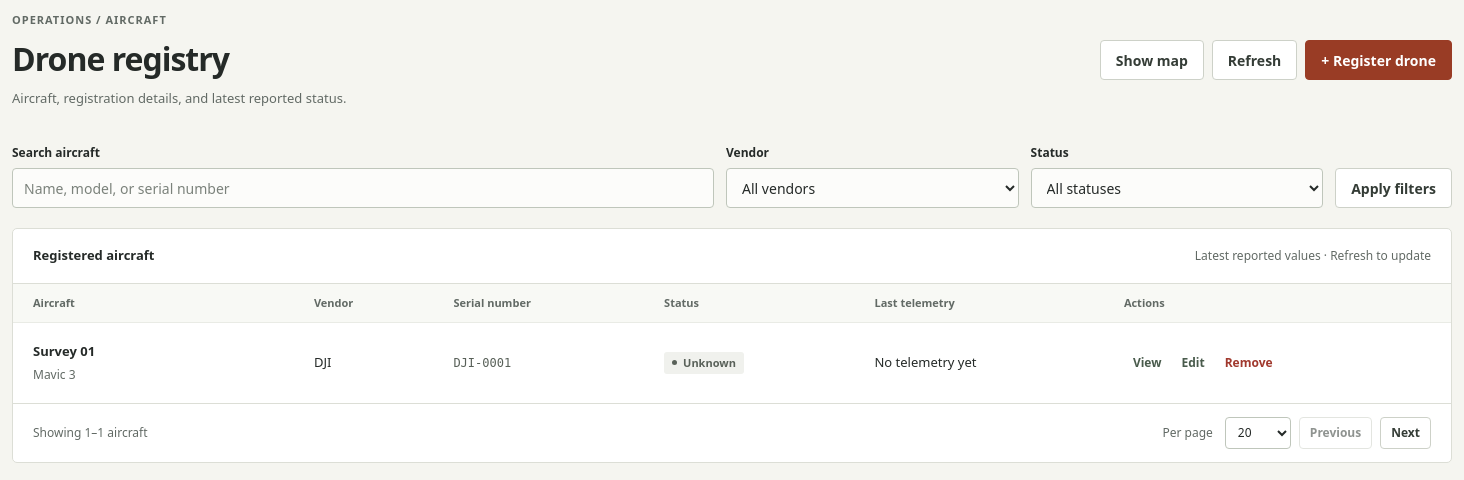
Test case: drone registry › paginates and applies filters from the first page
expect the text "Survey 01" is shown: met, box [33,342,95,360]
expect the button "Previous" is disabled: met, box [1299,416,1372,448]
Click the button "Next". click: {"x": 1406, "y": 432}
box: [1380,416,1431,448]
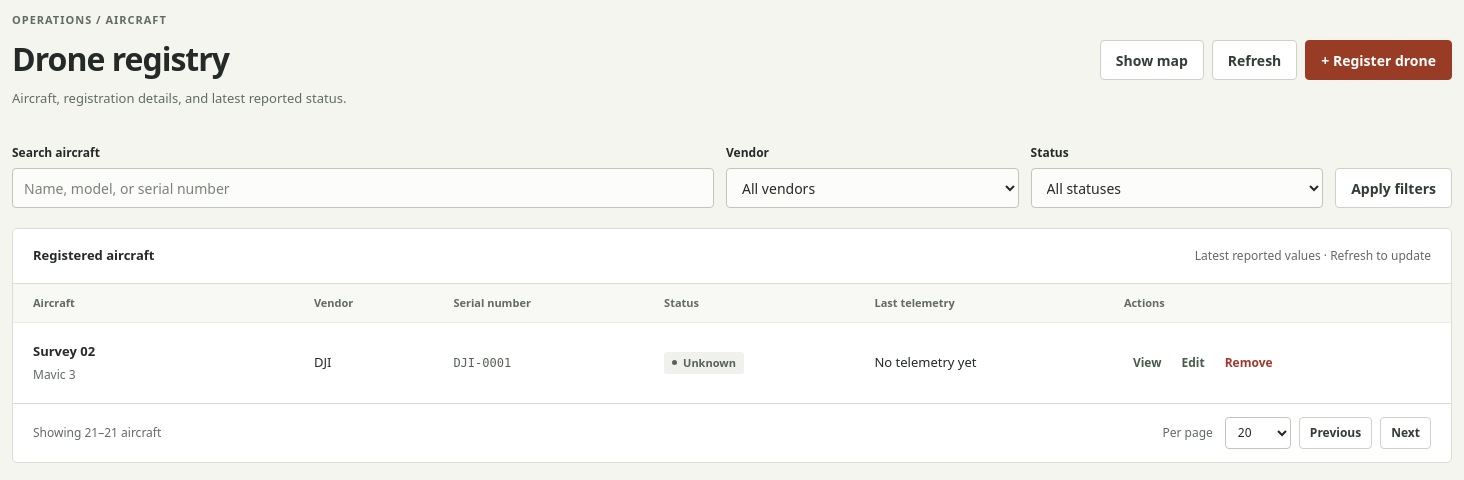
expect the text "Survey 02" is shown: met, box [33,342,95,360]
Type "  Survey  " into the search field labelled "Search aircraft". click: {"x": 363, "y": 188}
box: [12,168,714,208]
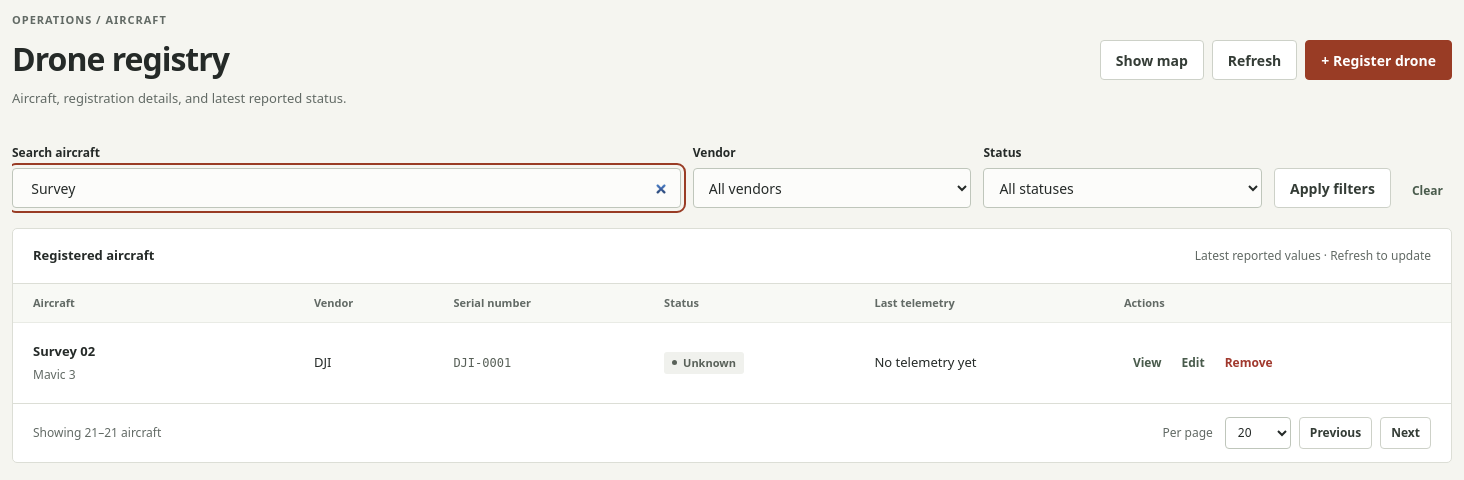
Select "DJI" in the dropdown labelled "Vendor". click: {"x": 832, "y": 188}
box: [693,168,971,208]
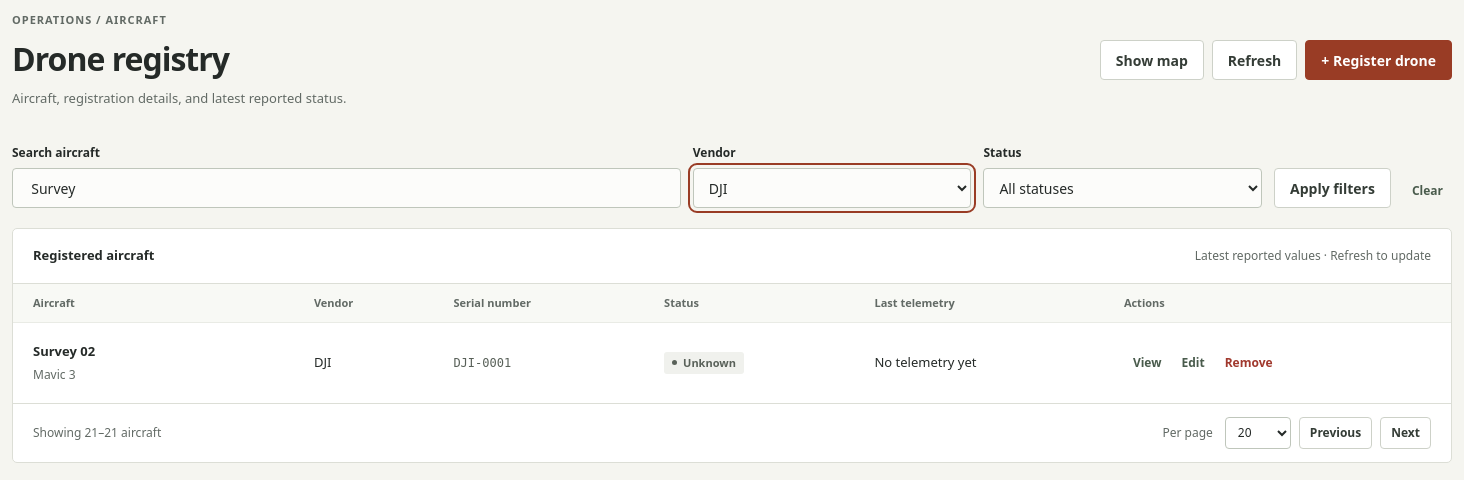
Select "Unknown" in the dropdown labelled "Status". click: {"x": 1123, "y": 188}
box: [983,168,1262,208]
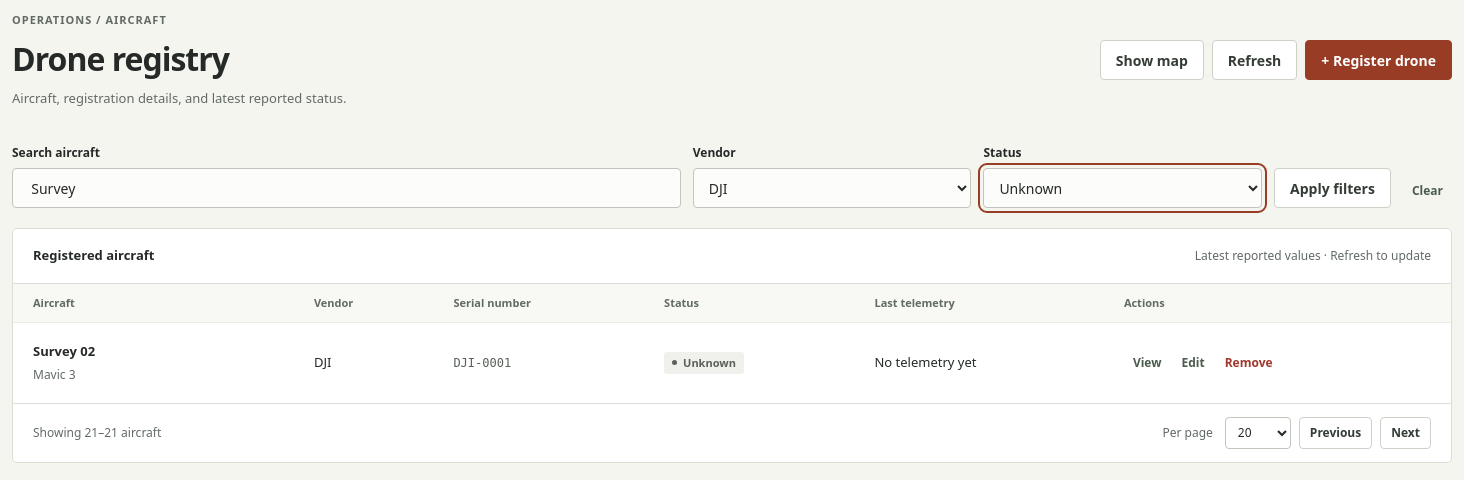
Click the button "Apply filters". click: {"x": 1332, "y": 188}
box: [1274,168,1391,208]
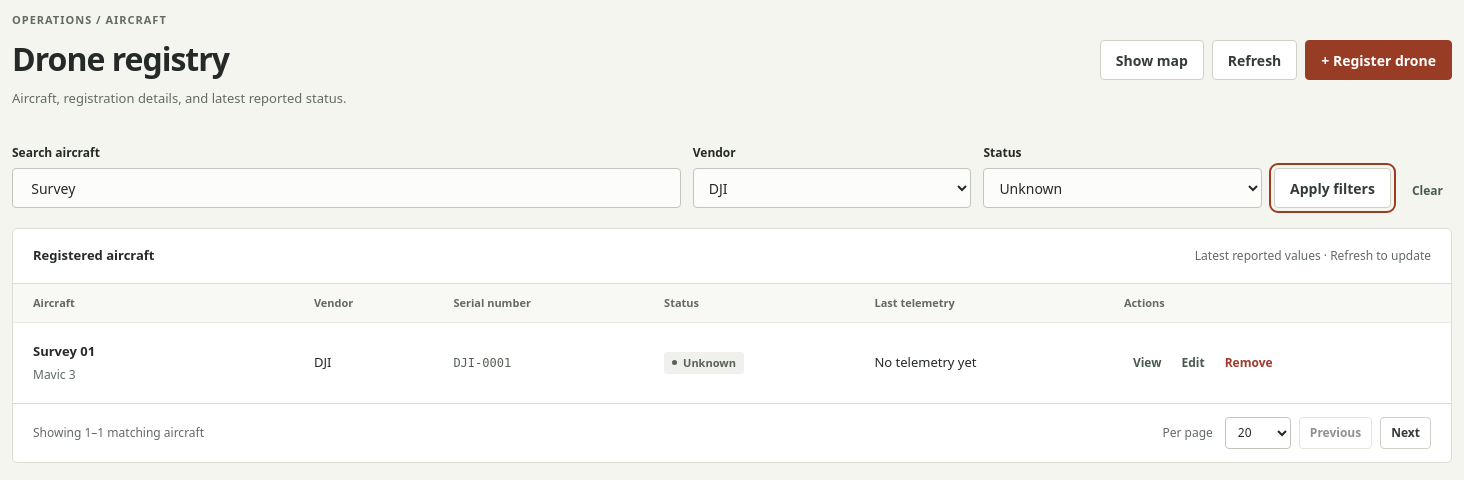
expect the text "Survey 01" is shown: met, box [33,342,95,360]
